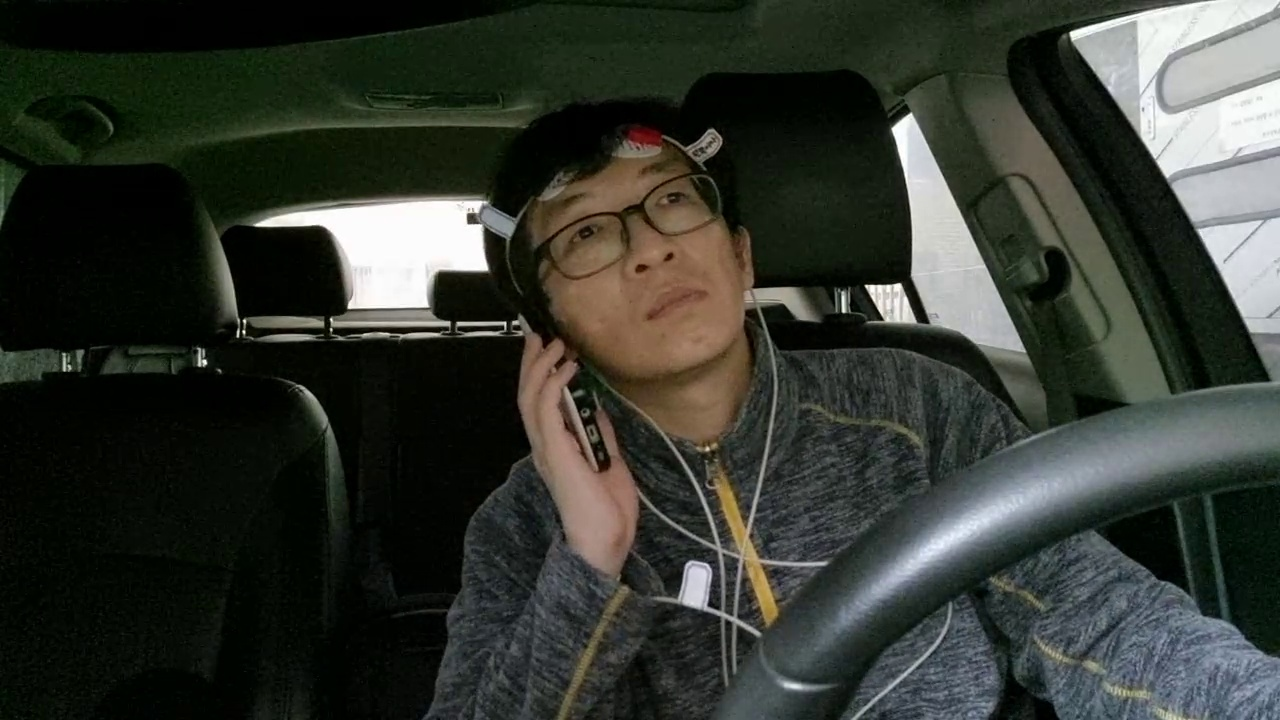phone: (484, 293, 654, 519)
